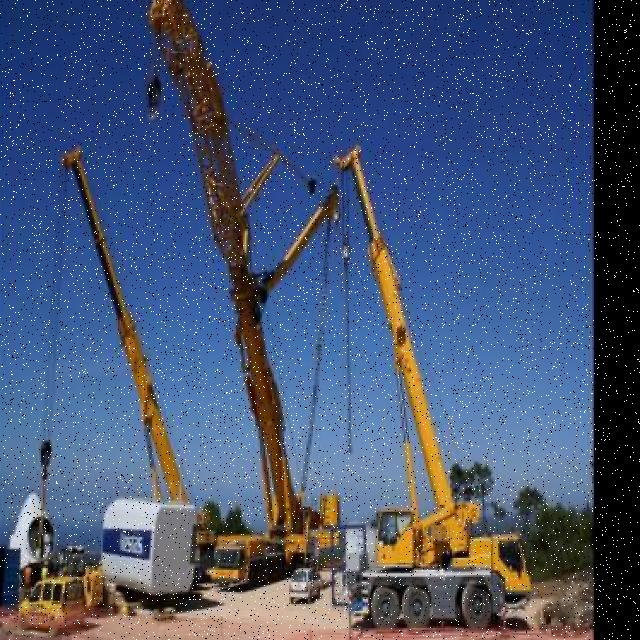Mobile Crane: (147, 0, 339, 585), (330, 147, 532, 630)
